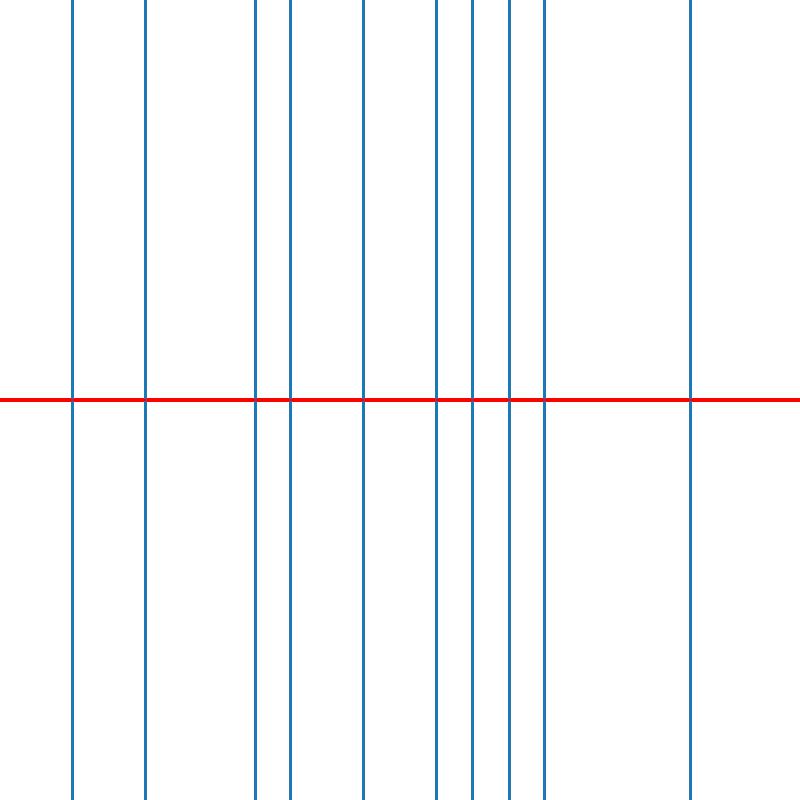root: (141, 396, 149, 404), (250, 396, 258, 404), (432, 396, 440, 404), (541, 396, 549, 404), (69, 396, 76, 404), (505, 396, 512, 404), (687, 396, 694, 404), (287, 396, 294, 404), (360, 396, 367, 404), (469, 396, 476, 404)
